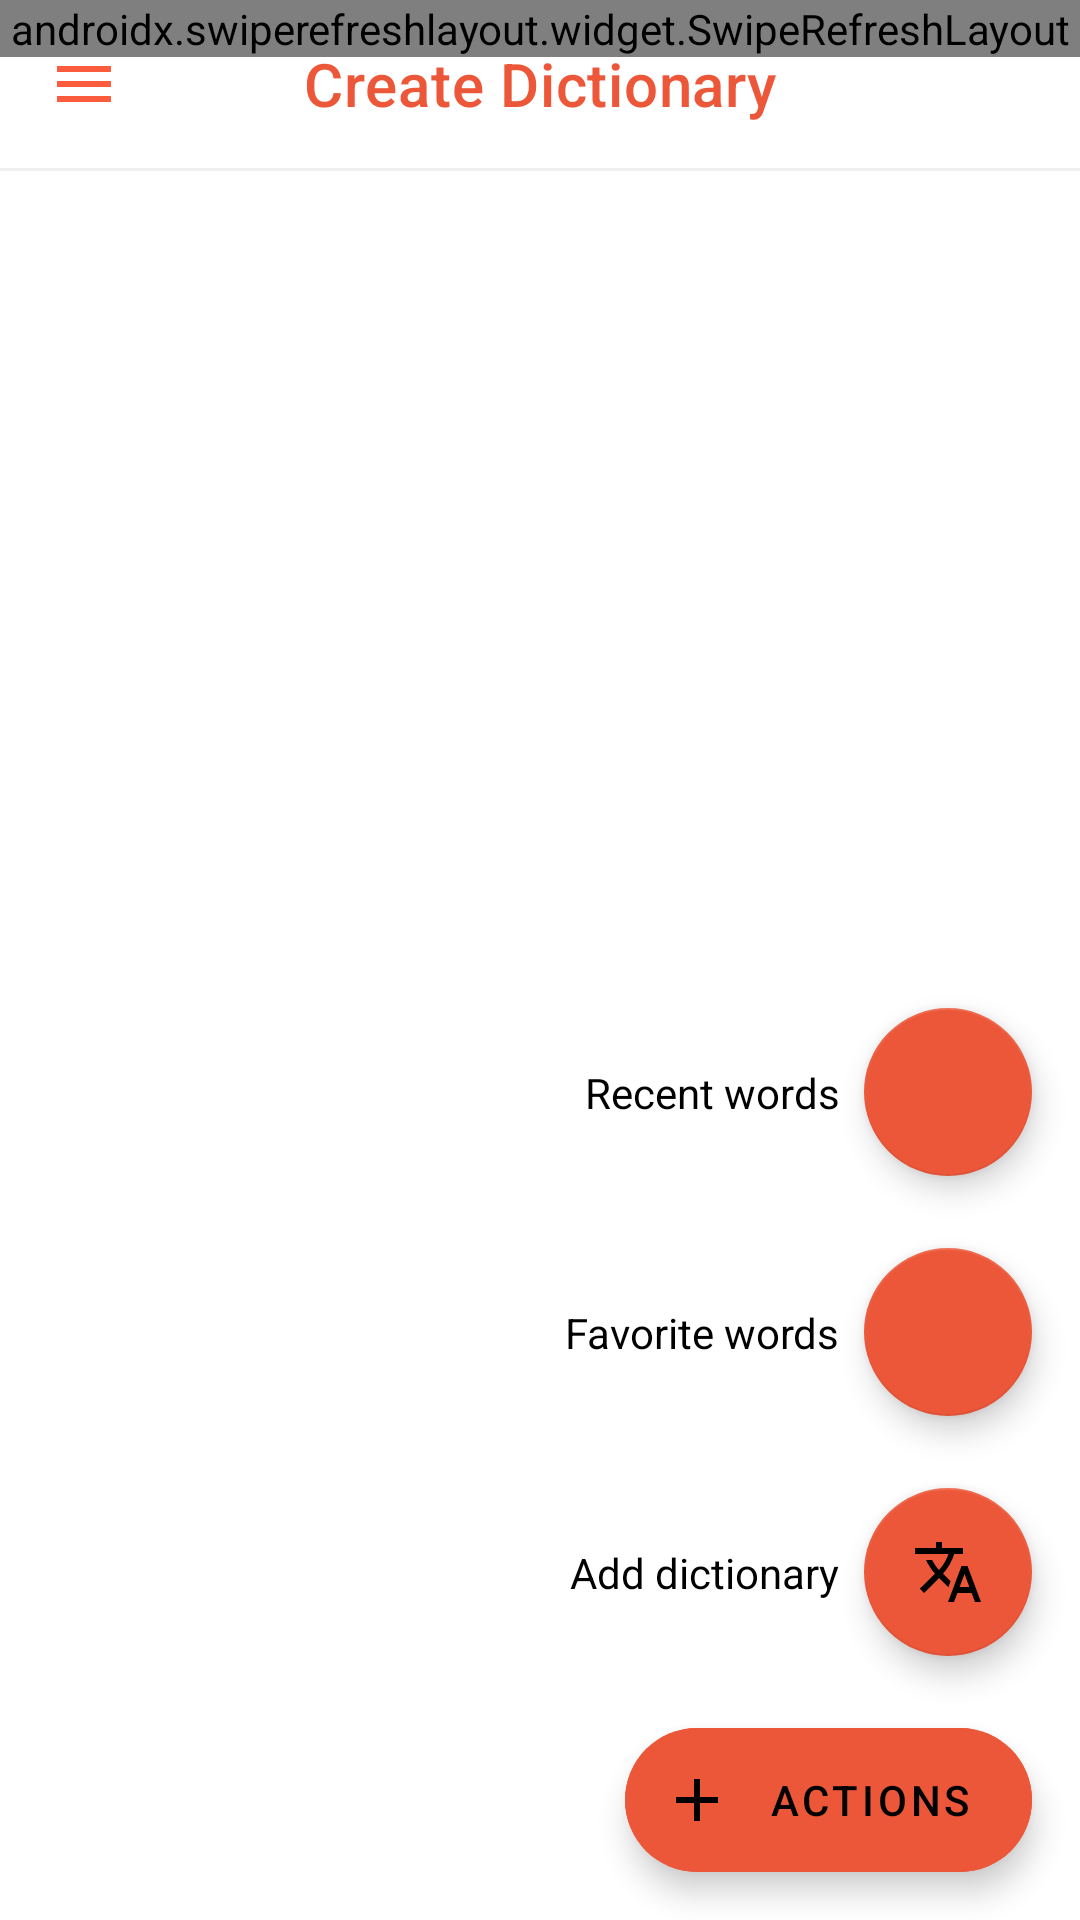

Where icons sit on this 1080px×1920px app screen, as Rect(x1, y1, x2, y2):
language: Rect(864, 1488, 1032, 1656)
